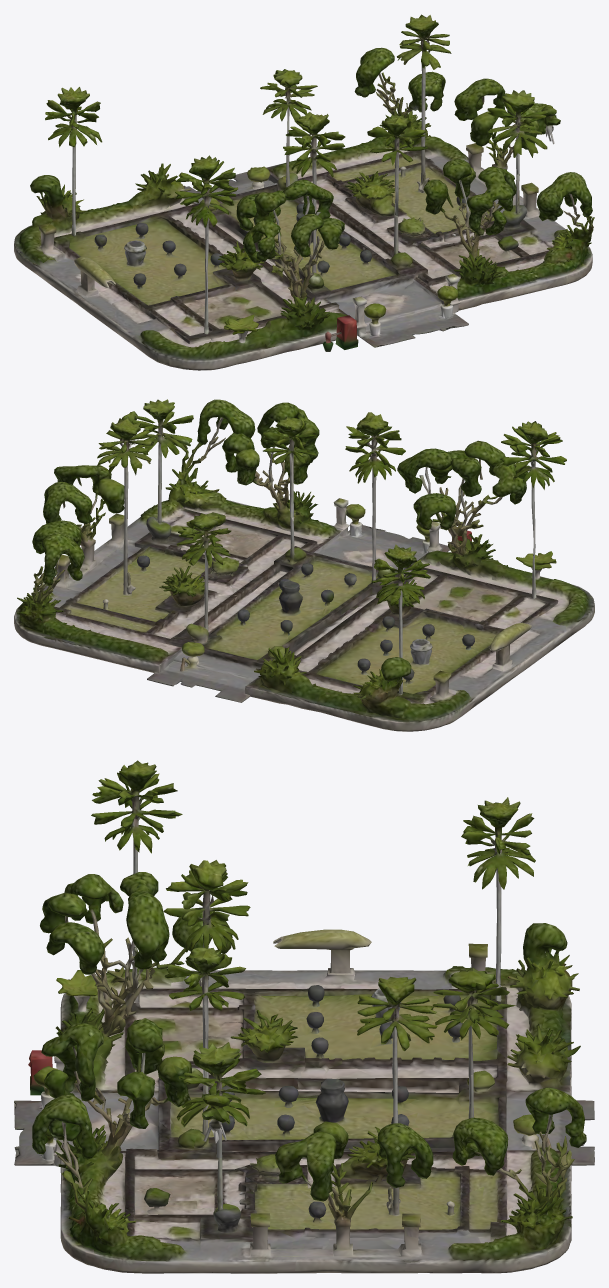
Rendered from taman_depan_westin.glb.
The picture shows the model from 3 angles, top to bottom: view 1: azimuth 30°, elevation 25°; view 2: azimuth 150°, elevation 25°; view 3: azimuth 270°, elevation 25°; orthographic projection. The views are drawn at different scales.
Parts seen in each view (by area): view 1: tripo_node_e511efa1-0eef-441b-8833-471de099f9af; view 2: tripo_node_e511efa1-0eef-441b-8833-471de099f9af; view 3: tripo_node_e511efa1-0eef-441b-8833-471de099f9af.
Boxes of the visible parts, bbox=[...] form: tripo_node_e511efa1-0eef-441b-8833-471de099f9af: bbox=[14, 14, 594, 370]; tripo_node_e511efa1-0eef-441b-8833-471de099f9af: bbox=[14, 399, 594, 731]; tripo_node_e511efa1-0eef-441b-8833-471de099f9af: bbox=[14, 760, 594, 1273].
Size of the model in its own units: 1 by 0.385 by 0.7885.
1 material, 1 textured.
